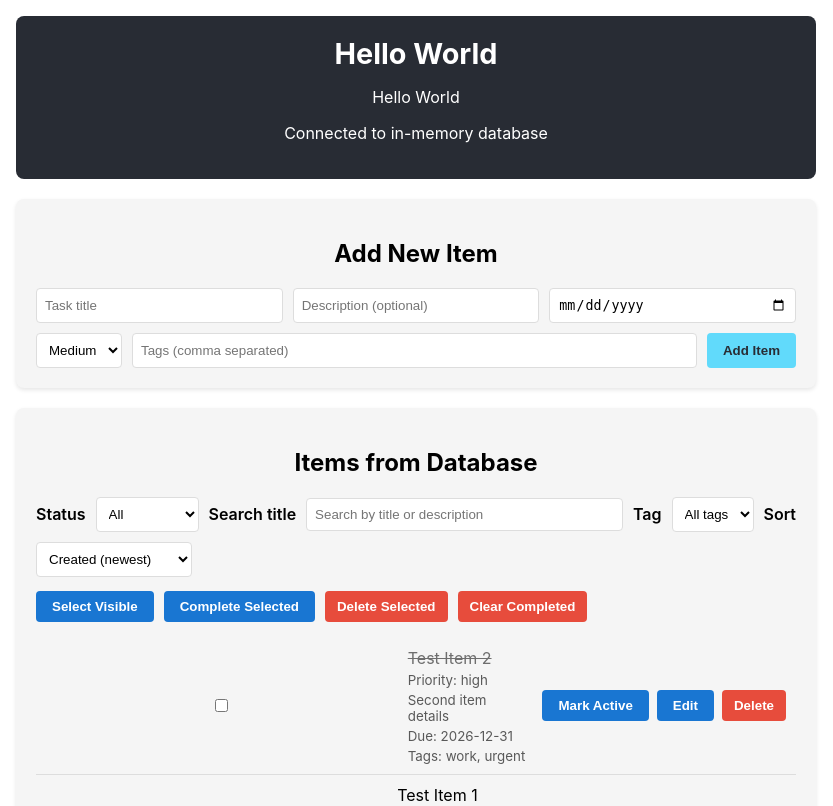
Scenario: App Component › filters tasks by status
Expected: the text "Test Item 1" is shown, [397,785,478,805]
Expected: the text "Test Item 2" is shown, [408,648,492,668]
Select "Completed" in the dropdown labelled "Status": (147, 514) [96,497,199,532]
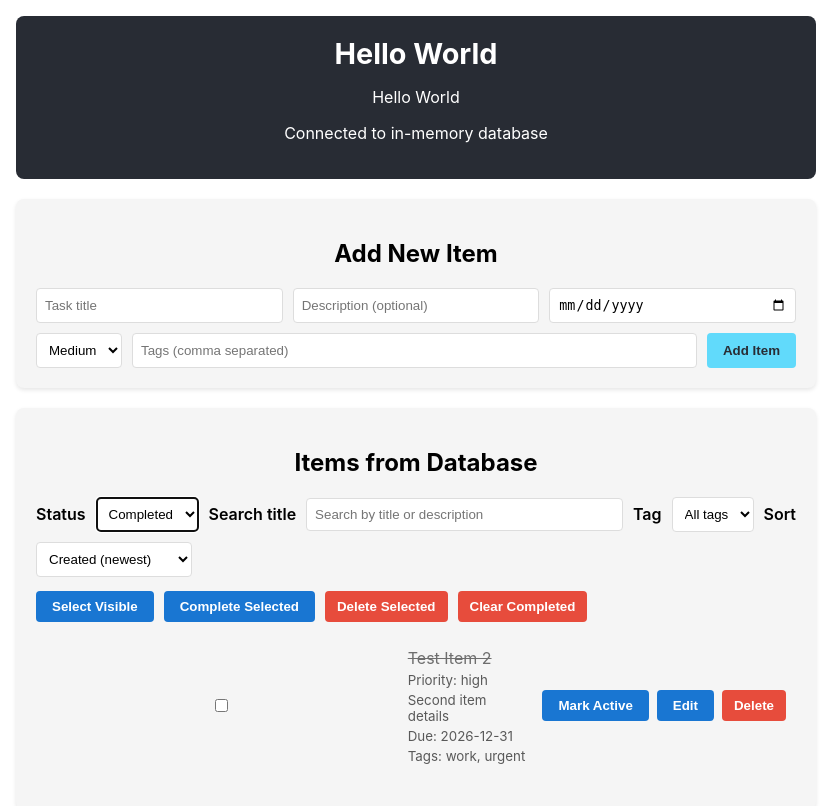
Expected: the text "Test Item 2" is shown, [408,648,492,668]
Expected: the text "Test Item 1" is gone
